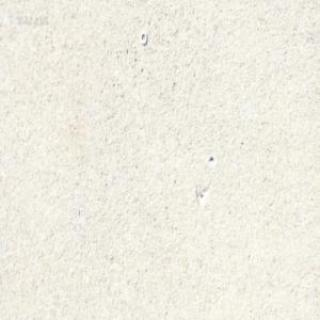Washertrack_idkeyframe: (139, 30, 147, 44)
